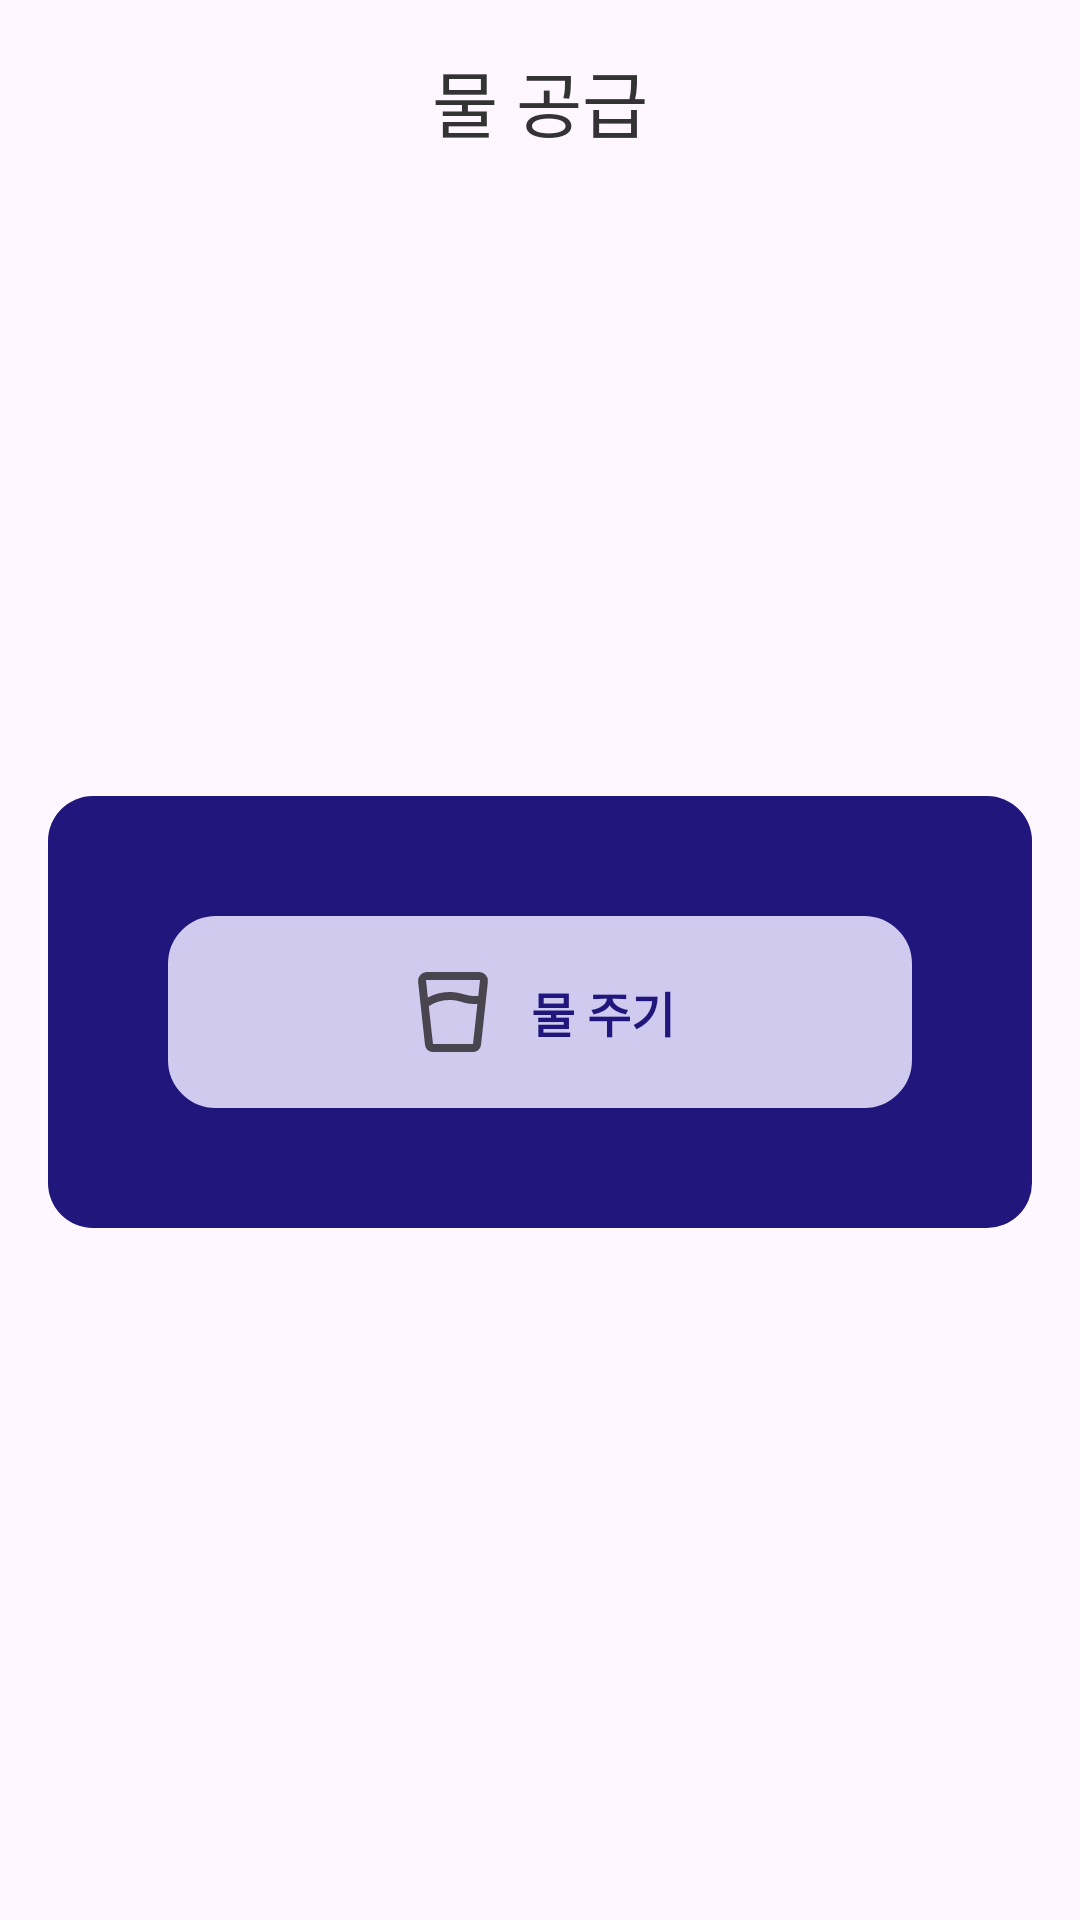

Named icons in this screenshot (1080px×1920px) and their bounding boxes, (x1,y1,x2,y2):
water glass: (418,972,488,1052)
